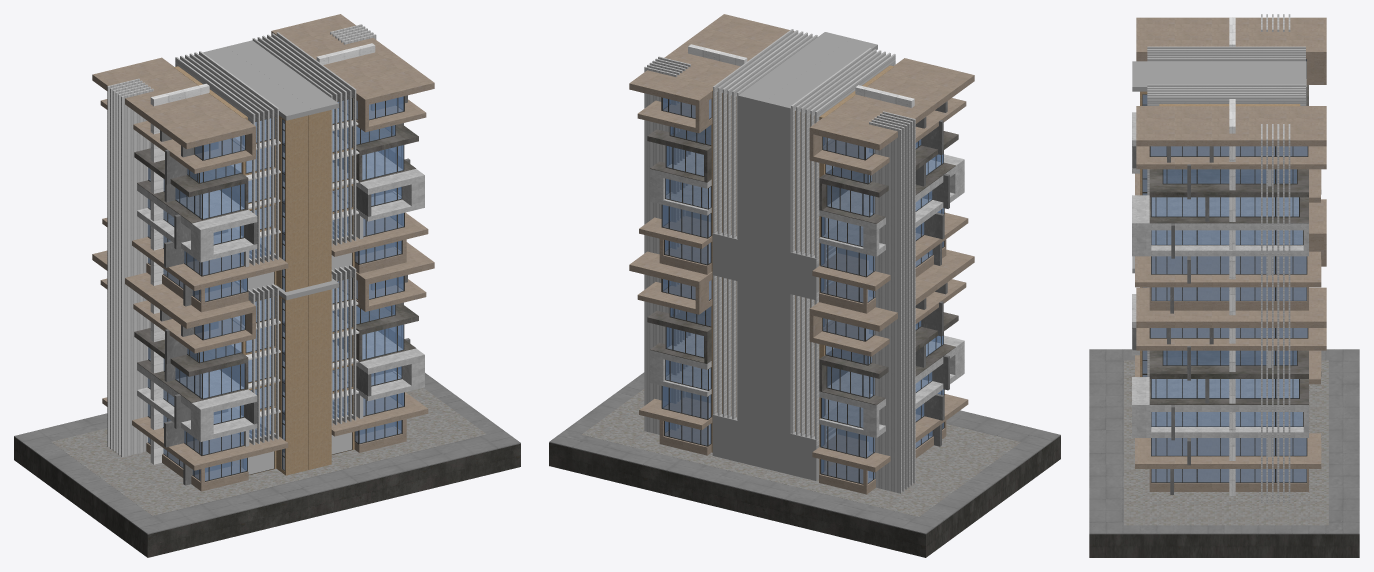
The model's file is modern-tower-office.glb.
3 renders of one model, left to right at view 1: azimuth 30°, elevation 25°; view 2: azimuth 150°, elevation 25°; view 3: azimuth 270°, elevation 25°, orthographic.
Parts seen in each view (by area): view 1: modern tower; view 2: modern tower; view 3: modern tower.
Boxes of the visible parts, x1,y1,x2,y2 form: modern tower: [14, 14, 520, 557]; modern tower: [549, 14, 1060, 557]; modern tower: [1089, 14, 1359, 557].
Bounding box in the file's own units: 9.36 × 9.33 × 5.81.
14 materials, 11 textured.
